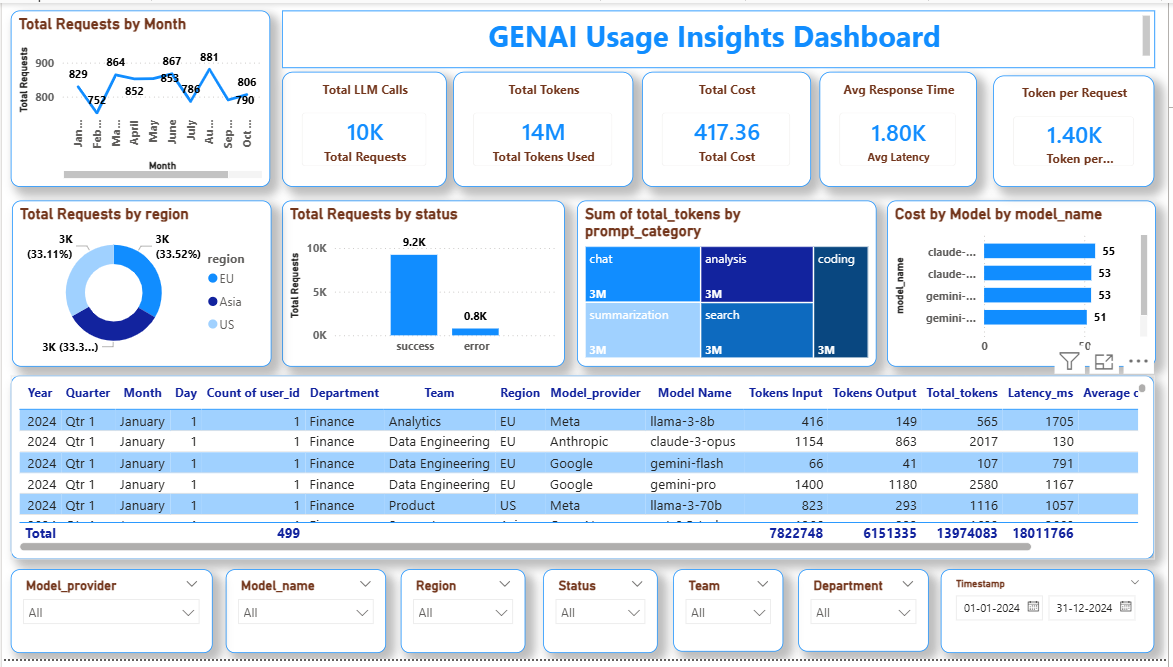

What the dashboard file says about the page in this screenshot:
{"tool":"powerbi","page":{"name":"GenAi","canvas":[1280,720],"ordinal":0},"visuals":[{"type":"cardVisual","fields":{"Data":["genai_analytics llm_usage.Total Requests"]},"box":[307.4,75.5,181.1,126.2],"z":0},{"type":"cardVisual","fields":{"Data":["genai_analytics llm_usage.Total Tokens Used"]},"box":[495.4,75.5,197.6,126.2],"z":1000},{"type":"cardVisual","fields":{"Data":["genai_analytics llm_usage.Total Cost"]},"box":[702.6,75.5,185.2,126.2],"z":2000},{"type":"cardVisual","fields":{"Data":["genai_analytics llm_usage.Avg Latency"]},"box":[897.4,75.5,172.9,126.2],"z":3000},{"type":"lineChart","fields":{"Y":["genai_analytics llm_usage.Total Requests"],"Category":["genai_analytics llm_usage.timestamp.Variation.Date Hierarchy.Month"]},"box":[9.8,8.6,284.9,193.2],"z":4000},{"type":"clusteredColumnChart","fields":{"Category":["genai_analytics llm_usage.status"],"Y":["genai_analytics llm_usage.Total Requests"]},"box":[306.9,216.4,310.6,182.2],"z":5000},{"type":"treemap","fields":{"Group":["genai_analytics llm_usage.prompt_category"],"Values":["Sum(genai_analytics llm_usage.total_tokens)"]},"box":[631,216.4,328.9,182.2],"z":6000},{"type":"donutChart","fields":{"Category":["genai_analytics llm_usage.region"],"Y":["genai_analytics llm_usage.Total Requests"]},"box":[11,216.4,284.9,182.2],"z":7000},{"type":"clusteredBarChart","fields":{"Category":["genai_analytics llm_usage.model_name"],"Y":["genai_analytics llm_usage.Cost by Model"]},"box":[971.5,216.8,295,182.5],"z":8000},{"type":"tableEx","fields":{"Values":["genai_analytics llm_usage.timestamp.Variation.Date Hierarchy.Year","genai_analytics llm_usage.timestamp.Variation.Date Hierarchy.Quarter","genai_analytics llm_usage.timestamp.Variation.Date Hierarchy.Month","genai_analytics llm_usage.timestamp.Variation.Date Hierarchy.Day","Count(genai_analytics llm_usage.user_id)","genai_analytics llm_usage.department","genai_analytics llm_usage.team","genai_analytics llm_usage.region","genai_analytics llm_usage.model_provider","genai_analytics llm_usage.model_name","Sum(genai_analytics llm_usage.tokens_input)","Sum(genai_analytics llm_usage.tokens_output)"]},"box":[9.6,408.9,1255.6,201.7],"z":9000},{"type":"slicer","fields":{"Values":["genai_analytics llm_usage.model_name"]},"box":[245.8,621.2,176.1,91.7],"z":10000},{"type":"slicer","fields":{"Values":["genai_analytics llm_usage.model_provider"]},"box":[9.8,621.2,221.3,91.7],"z":11000},{"type":"slicer","fields":{"Values":["genai_analytics llm_usage.region"]},"box":[437.8,621.2,137,91.7],"z":12000},{"type":"slicer","fields":{"Values":["genai_analytics llm_usage.department"]},"box":[874.3,621.2,143.1,90.5],"z":13000},{"type":"slicer","fields":{"Values":["genai_analytics llm_usage.status"]},"box":[594.3,621.2,126,91.7],"z":14000},{"type":"slicer","fields":{"Values":["genai_analytics llm_usage.team"]},"box":[737.4,621.2,121.1,90.5],"z":15000},{"type":"slicer","fields":{"Values":["genai_analytics llm_usage.timestamp"]},"box":[1030.8,621.2,234.8,91.7],"z":16000},{"type":"cardVisual","fields":{"Data":["genai_analytics llm_usage.Token per Request"]},"box":[1088.2,79.6,177,122.1],"z":17000},{"type":"textbox","box":[306.9,8.6,958.7,63.6],"z":18001}]}

Visuals, with their boxes in screenshot pixels (x1, y1, x2, y2), scaled from the page's 1280x720 canvas onto the 1173x667 screenshot:
cardVisual - genai_analytics llm_usage.Total Requests: (x1=282, y1=70, x2=448, y2=187)
cardVisual - genai_analytics llm_usage.Total Tokens Used: (x1=454, y1=70, x2=635, y2=187)
cardVisual - genai_analytics llm_usage.Total Cost: (x1=644, y1=70, x2=814, y2=187)
cardVisual - genai_analytics llm_usage.Avg Latency: (x1=822, y1=70, x2=981, y2=187)
lineChart - genai_analytics llm_usage.Total Requests x genai_analytics llm_usage.timestamp.Variation.Date Hierarchy.Month: (x1=9, y1=8, x2=270, y2=187)
clusteredColumnChart - genai_analytics llm_usage.status x genai_analytics llm_usage.Total Requests: (x1=281, y1=200, x2=566, y2=369)
treemap - genai_analytics llm_usage.prompt_category x Sum(genai_analytics llm_usage.total_tokens): (x1=578, y1=200, x2=880, y2=369)
donutChart - genai_analytics llm_usage.region x genai_analytics llm_usage.Total Requests: (x1=10, y1=200, x2=271, y2=369)
clusteredBarChart - genai_analytics llm_usage.model_name x genai_analytics llm_usage.Cost by Model: (x1=890, y1=201, x2=1161, y2=370)
tableEx - genai_analytics llm_usage.timestamp.Variation.Date Hierarchy.Year x genai_analytics llm_usage.timestamp.Variation.Date Hierarchy.Quarter: (x1=9, y1=379, x2=1159, y2=566)
slicer - genai_analytics llm_usage.model_name: (x1=225, y1=575, x2=387, y2=660)
slicer - genai_analytics llm_usage.model_provider: (x1=9, y1=575, x2=212, y2=660)
slicer - genai_analytics llm_usage.region: (x1=401, y1=575, x2=527, y2=660)
slicer - genai_analytics llm_usage.department: (x1=801, y1=575, x2=932, y2=659)
slicer - genai_analytics llm_usage.status: (x1=545, y1=575, x2=660, y2=660)
slicer - genai_analytics llm_usage.team: (x1=676, y1=575, x2=787, y2=659)
slicer - genai_analytics llm_usage.timestamp: (x1=945, y1=575, x2=1160, y2=660)
cardVisual - genai_analytics llm_usage.Token per Request: (x1=997, y1=74, x2=1159, y2=187)
textbox: (x1=281, y1=8, x2=1160, y2=67)
